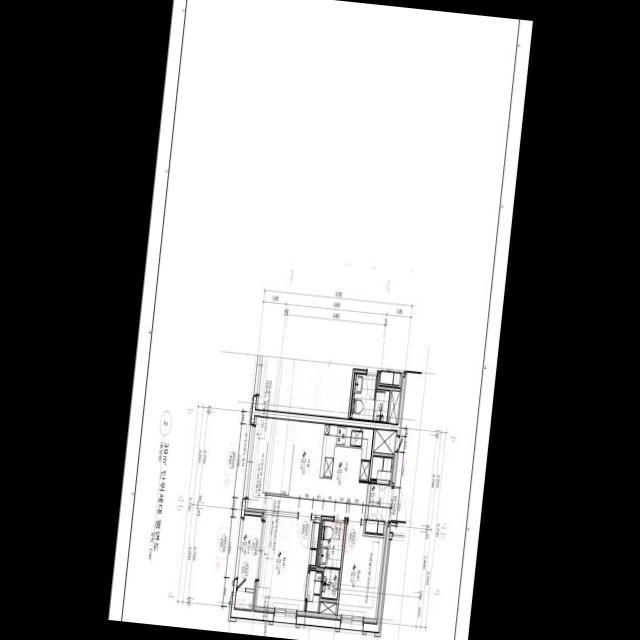background: (108, 0, 532, 640)
space_balconi: (236, 515, 261, 589)
space_bedroom: (256, 514, 320, 611), (337, 523, 383, 618)
space_front: (364, 483, 391, 535)
space_kitchen: (315, 424, 373, 519)
space_living_room: (246, 416, 324, 514)
space_other: (305, 570, 321, 612), (373, 429, 395, 454), (370, 456, 392, 480), (234, 591, 253, 609), (319, 602, 336, 615)
space_toilet: (317, 519, 344, 599)
